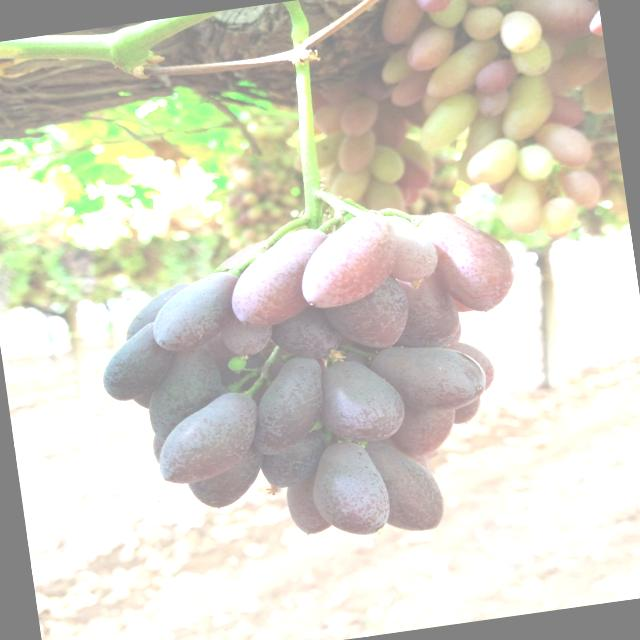grapes: (412, 202, 520, 320), (223, 227, 340, 331), (150, 389, 266, 486), (293, 210, 404, 310), (368, 335, 490, 421), (240, 354, 332, 458), (140, 341, 229, 442), (308, 438, 394, 541), (363, 432, 446, 538), (146, 270, 248, 355), (314, 354, 408, 446), (321, 271, 415, 356), (96, 320, 180, 404), (382, 268, 463, 354), (184, 441, 270, 512), (420, 36, 505, 101), (120, 280, 202, 346), (267, 301, 346, 364), (386, 396, 462, 460), (204, 324, 272, 393), (257, 427, 331, 490), (496, 72, 560, 144), (414, 91, 484, 153), (514, 0, 603, 46), (494, 171, 545, 239), (384, 227, 441, 286), (441, 336, 497, 396), (534, 119, 594, 175), (402, 20, 464, 74), (284, 471, 334, 537), (544, 48, 610, 98), (463, 137, 523, 188), (367, 96, 412, 156), (215, 235, 292, 268), (375, 0, 428, 46), (290, 132, 348, 174), (219, 317, 276, 359), (386, 65, 440, 108), (356, 54, 402, 104), (556, 162, 603, 210), (336, 92, 383, 140), (334, 127, 380, 176), (498, 8, 545, 55), (325, 164, 376, 207), (394, 134, 436, 184), (386, 151, 431, 196), (509, 36, 554, 80), (535, 195, 581, 238), (363, 171, 405, 218), (317, 69, 365, 108), (366, 140, 406, 186), (472, 58, 520, 96), (512, 142, 556, 183), (460, 5, 506, 44), (580, 65, 614, 116), (378, 46, 420, 86), (545, 92, 587, 130), (423, 0, 473, 31), (476, 86, 512, 119), (309, 104, 345, 136), (326, 346, 370, 372), (401, 100, 436, 130), (394, 441, 427, 472), (450, 397, 484, 425), (382, 212, 417, 236), (393, 177, 421, 206), (584, 0, 603, 40), (486, 172, 516, 195), (132, 388, 159, 412), (411, 0, 454, 15), (544, 38, 568, 64), (463, 0, 522, 10), (151, 432, 168, 466), (220, 218, 246, 240), (584, 35, 606, 60), (418, 186, 444, 207), (451, 292, 474, 314), (226, 235, 254, 252), (252, 176, 272, 199), (445, 320, 464, 344), (544, 227, 574, 241), (408, 196, 428, 216), (278, 192, 300, 210), (239, 170, 257, 191), (244, 203, 266, 220), (594, 170, 610, 190), (586, 157, 604, 174), (278, 152, 295, 169), (606, 158, 622, 176), (242, 192, 259, 207), (260, 168, 277, 183), (226, 192, 242, 207), (256, 214, 276, 226), (243, 228, 258, 244), (268, 222, 288, 234), (261, 200, 278, 214), (240, 213, 258, 226), (266, 192, 284, 204), (268, 180, 282, 194), (422, 449, 438, 460), (254, 222, 267, 234), (238, 202, 250, 212), (589, 0, 599, 10)
